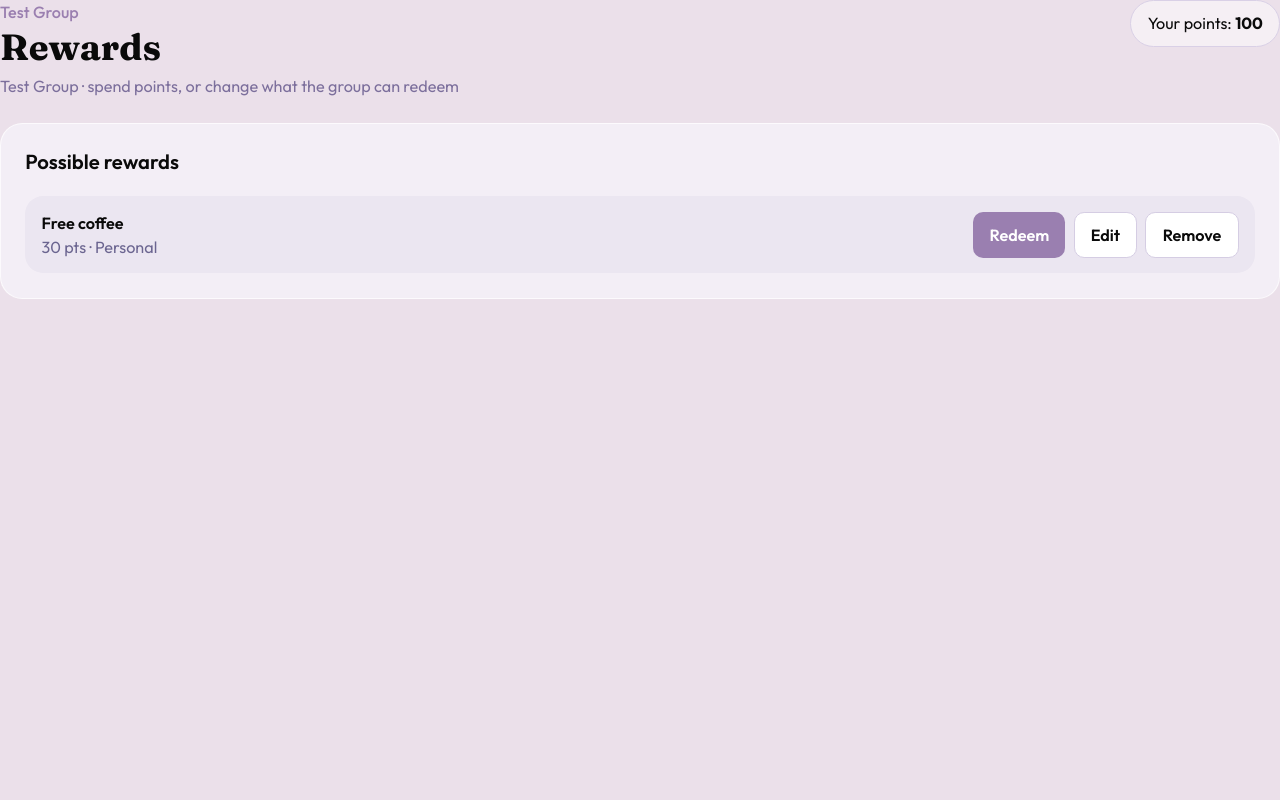
Test: Rewards page › edits an existing reward
This screenshot has width=1280, height=800.
Expected: the text "Free coffee" is shown, left=42, top=213, right=124, bottom=233
Click the button "Edit" at (1105, 235), box left=1074, top=212, right=1137, bottom=258
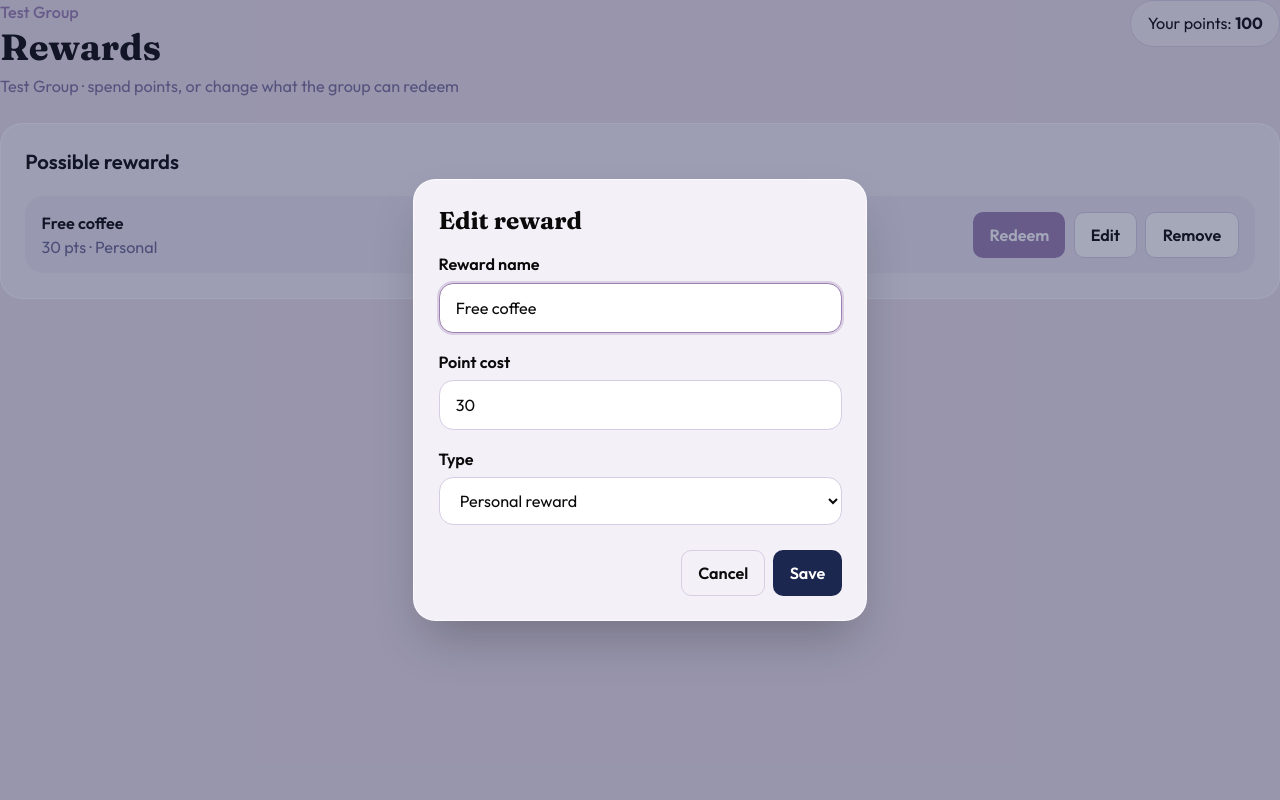
Replace the text in the field labelled "Reward name" with "Coffee and snacks" at (640, 308), box left=438, top=283, right=842, bottom=333
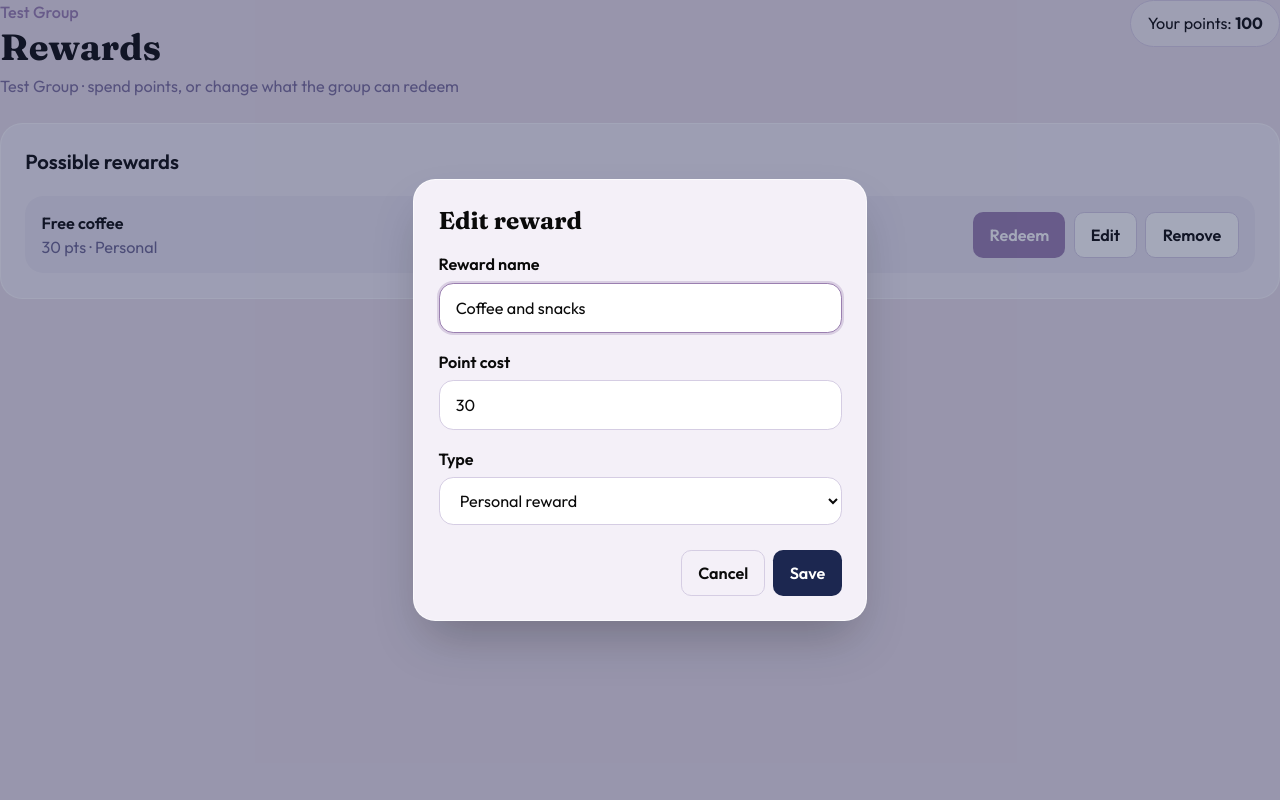
Type "40" into the number field labelled "Point cost" at (640, 405), box left=438, top=380, right=842, bottom=430
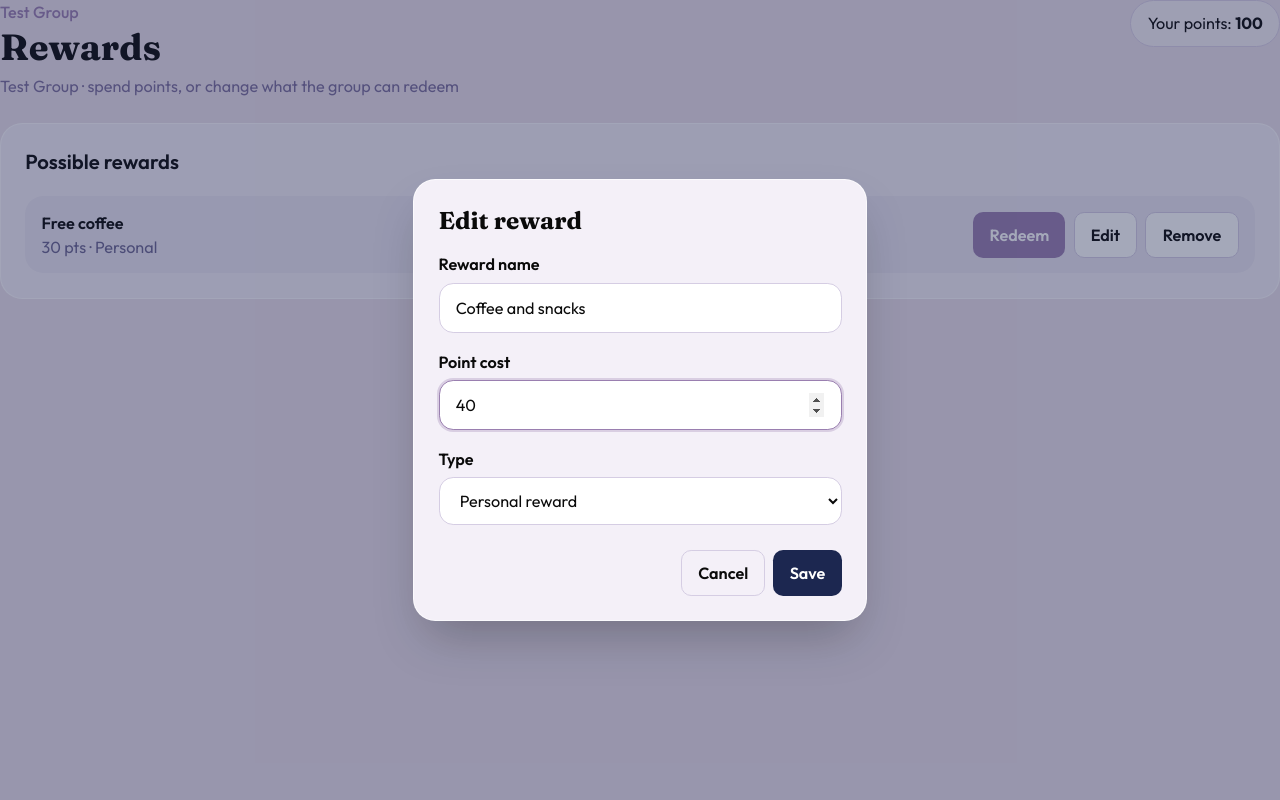
Click the button "Save" at (808, 573), box left=774, top=550, right=842, bottom=596
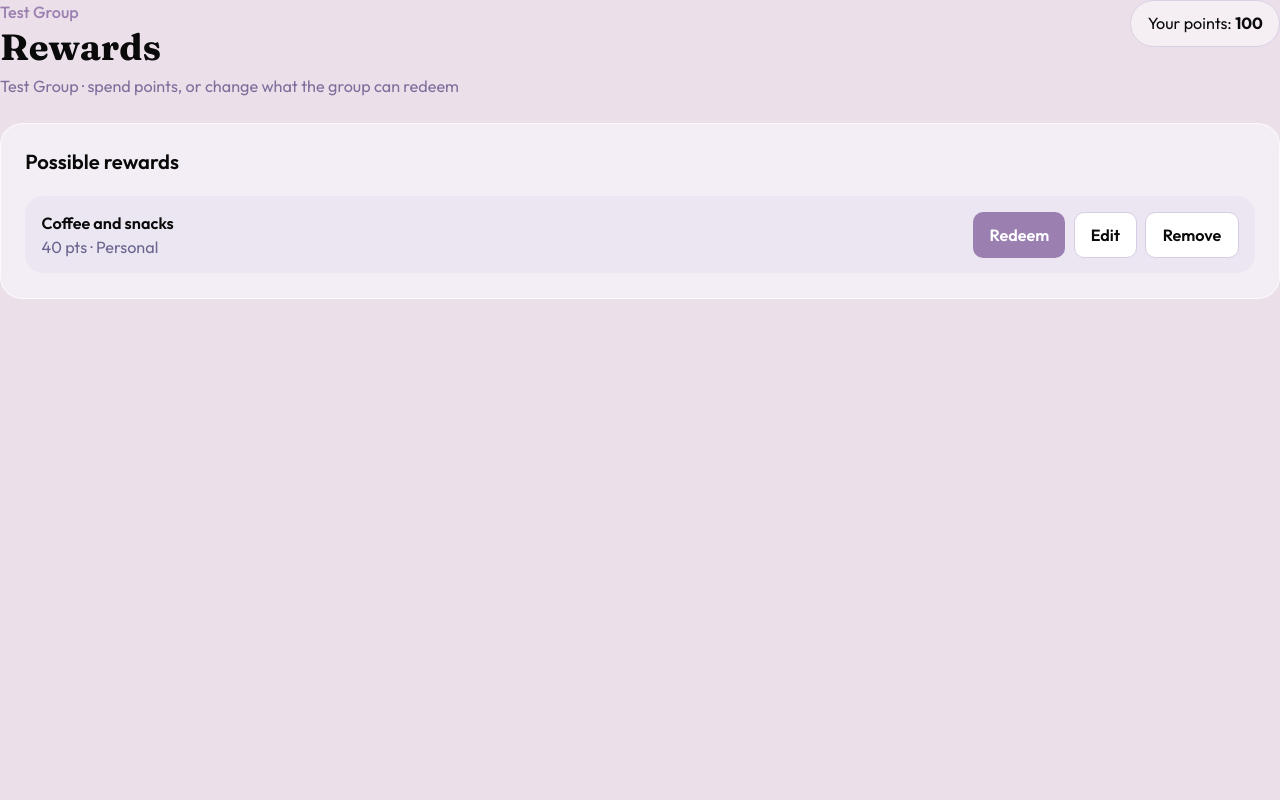
Expected: the text "Coffee and snacks" is shown, left=42, top=211, right=174, bottom=235
